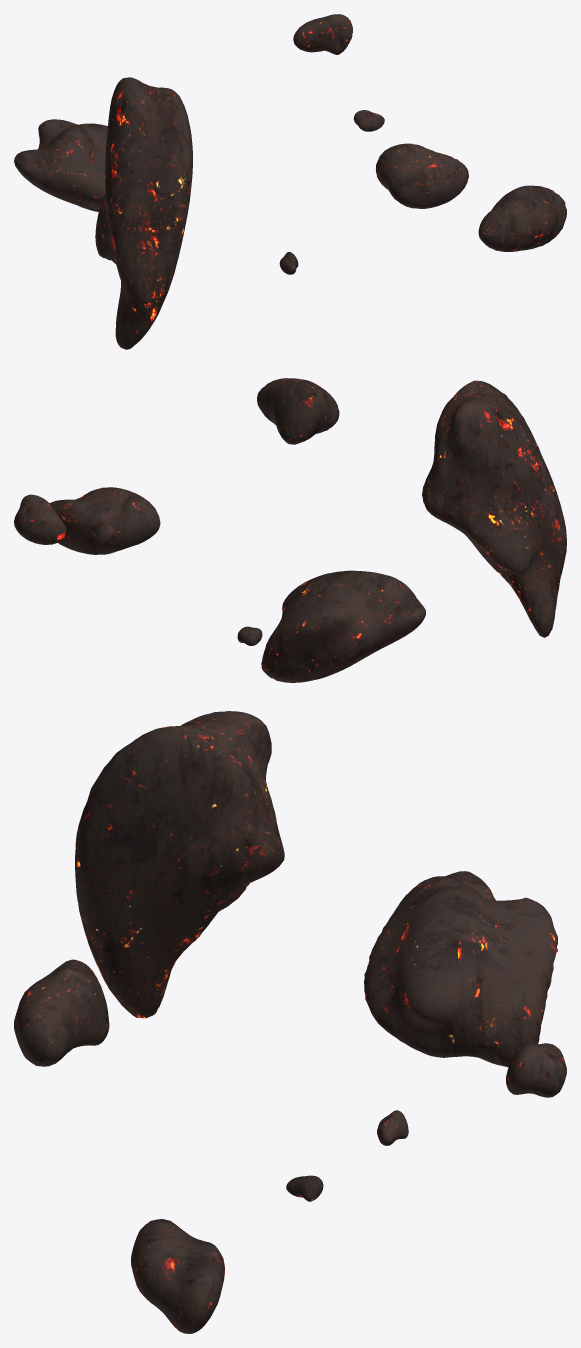
File: spacerocks.glb
The picture shows the model from 3 angles, top to bottom: view 1: azimuth 30°, elevation 25°; view 2: azimuth 150°, elevation 25°; view 3: azimuth 270°, elevation 25°; orthographic projection. The views are drawn at different scales.
Visible parts, largest first — view 1: Mball.000_Mesh.008; view 2: Mball.000_Mesh.008; view 3: Mball.000_Mesh.008.
Part boxes in pixels (x1,y1,x2,y2): Mball.000_Mesh.008: (14,14,566,349); Mball.000_Mesh.008: (14,378,566,682); Mball.000_Mesh.008: (14,711,566,1333).
Bounding box in the file's own units: 2 × 1.04 × 1.44.
1 material, 1 textured.
